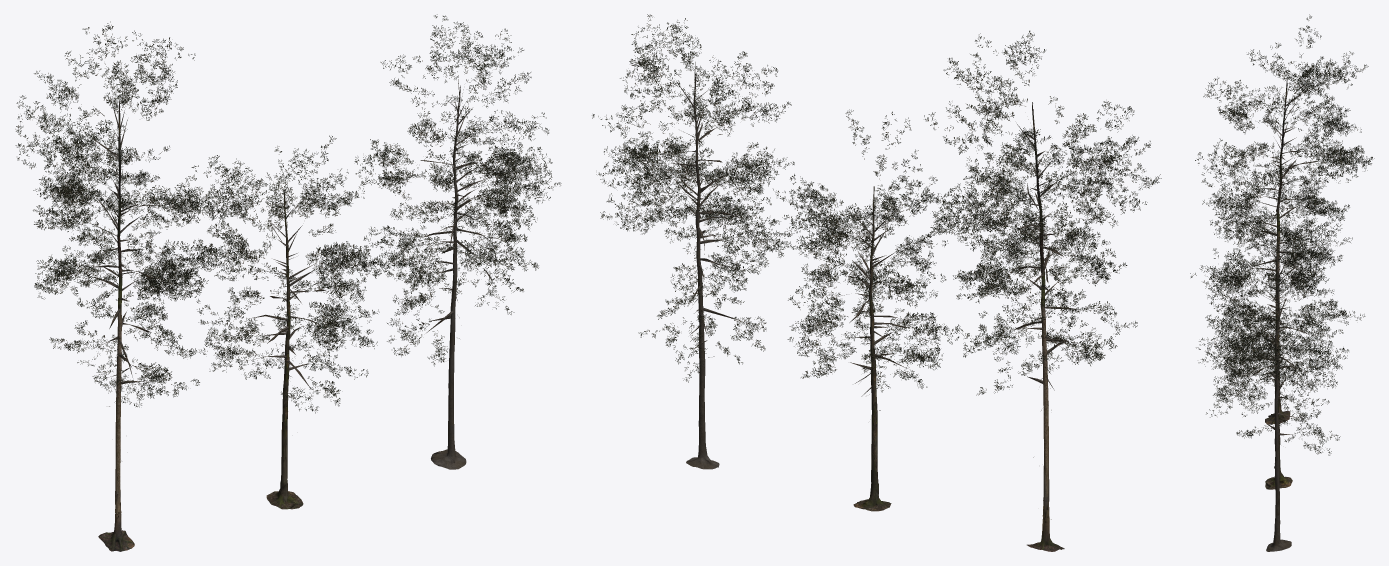
Rendered from pine_tree_01.glb.
3 renders of one model, left to right at view 1: azimuth 30°, elevation 25°; view 2: azimuth 150°, elevation 25°; view 3: azimuth 270°, elevation 25°, orthographic. The views are drawn at different scales.
Visible parts, largest first — view 1: pine_tree_01_a_LOD0, pine_tree_01_c_LOD0, pine_tree_01_b_LOD0; view 2: pine_tree_01_a_LOD0, pine_tree_01_c_LOD0, pine_tree_01_b_LOD0; view 3: pine_tree_01_a_LOD0, pine_tree_01_c_LOD0, pine_tree_01_b_LOD0.
Boxes of the visible parts, x1,y1,x2,y2 form: pine_tree_01_a_LOD0: (15,14,561,551); pine_tree_01_c_LOD0: (431,85,466,469); pine_tree_01_b_LOD0: (266,192,303,509); pine_tree_01_a_LOD0: (592,14,1161,551); pine_tree_01_c_LOD0: (686,73,719,469); pine_tree_01_b_LOD0: (853,186,891,511); pine_tree_01_a_LOD0: (1190,14,1374,463); pine_tree_01_c_LOD0: (1266,253,1291,551); pine_tree_01_b_LOD0: (1265,238,1292,489).
Bounding box in the file's own units: 21.74 × 20.32 × 8.47.
Materials: 6 (6 with a texture image).
